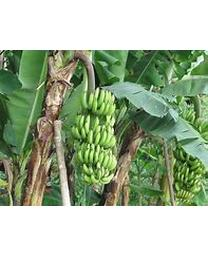banana: (71, 87, 116, 185)
